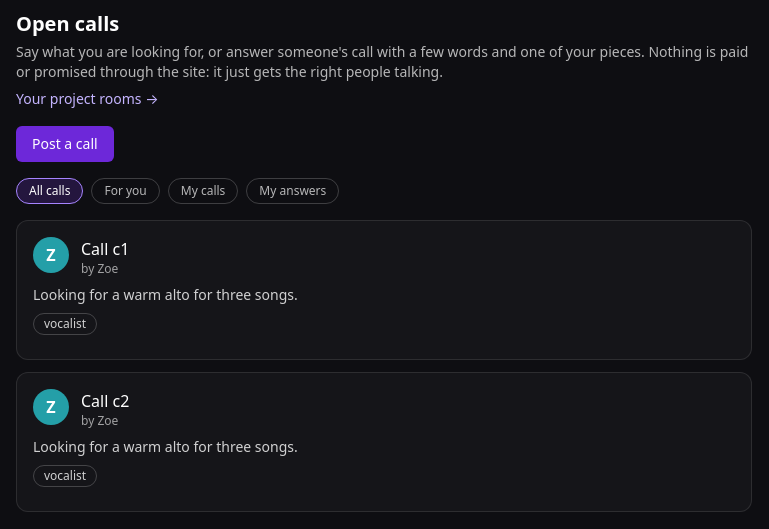
Test: CallsPage › shows only the ones that fit under For you, and says what to do when there are none
Check: the link "Call c1" is shown, box [81,238,129,260]
Click the button "For you": click(126, 191) [91,178,160,204]
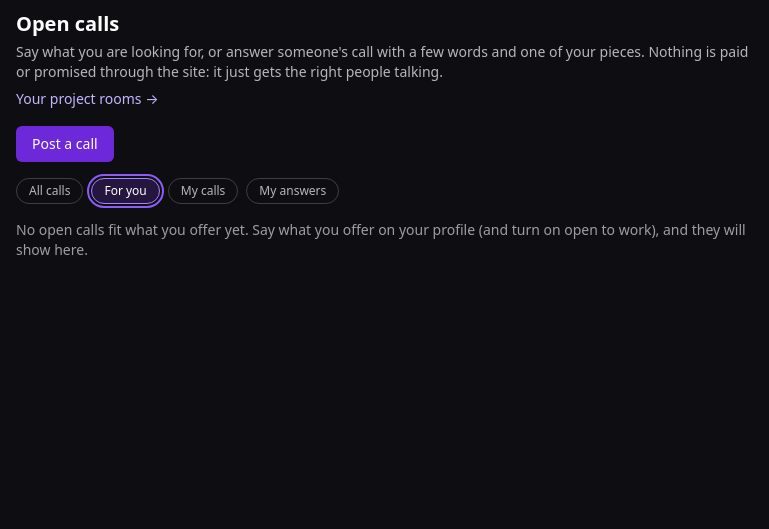
Check: the text "No open calls fit what you offer yet" is shown, box [16,220,746,259]
